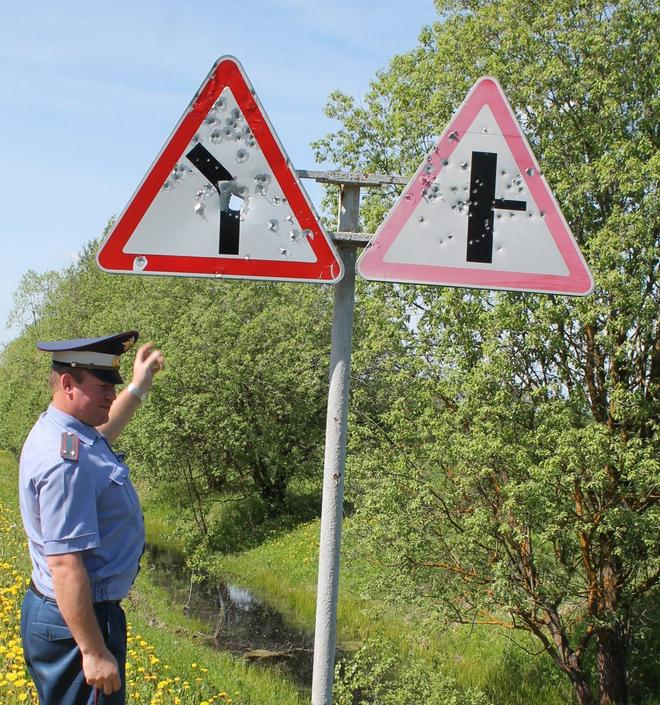obstructed_road_sign: (98, 57, 341, 282), (359, 78, 593, 295)
